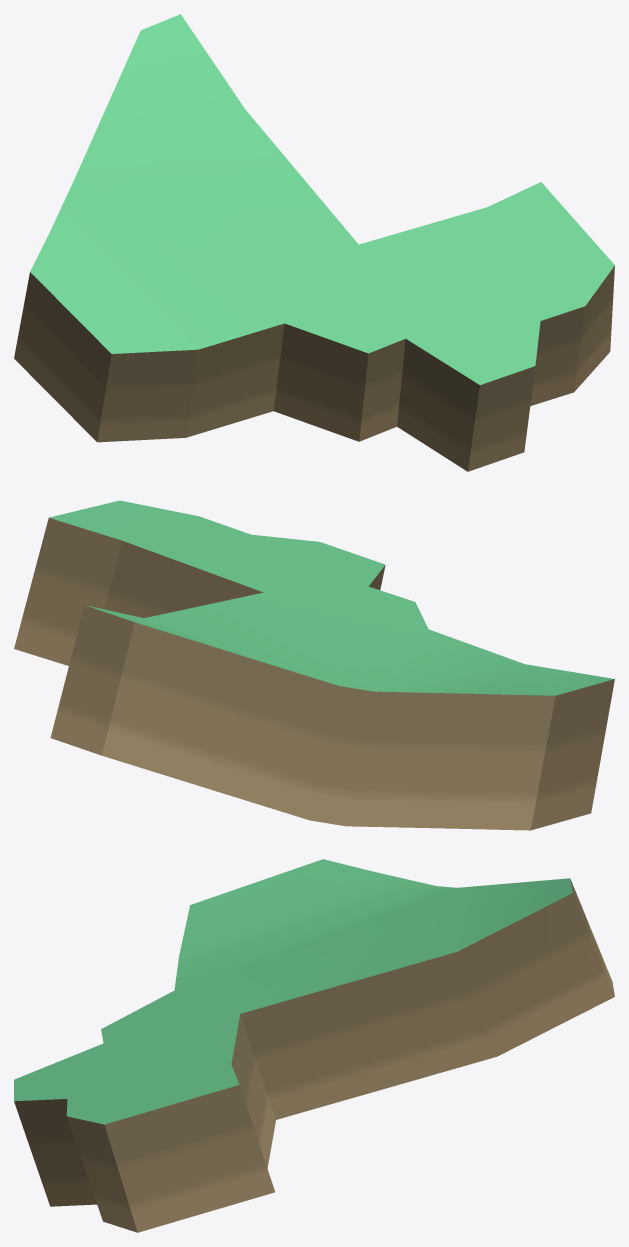
Rendered from 065f_Mali.glb.
3 renders of one model, top to bottom at view 1: azimuth 30°, elevation 25°; view 2: azimuth 150°, elevation 25°; view 3: azimuth 270°, elevation 25°, orthographic. The views are drawn at different scales.
Visible parts, largest first — view 1: part_0; view 2: part_0; view 3: part_0.
Part boxes in pixels (<box>): part_0: <box>14,14,614,471</box>; part_0: <box>14,500,614,830</box>; part_0: <box>14,859,614,1232</box>.
Size of the model in its own units: 0.9599 by 0.5169 by 1.01.
1 material, 1 textured.
